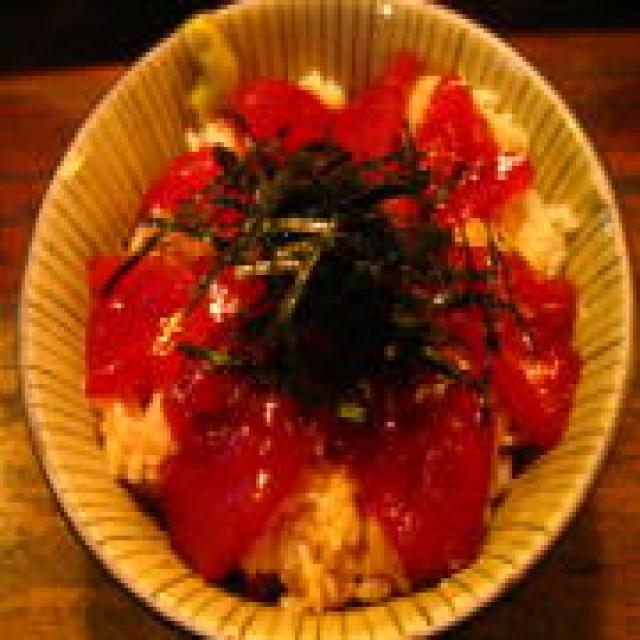刺身生食: (7, 0, 629, 640)
